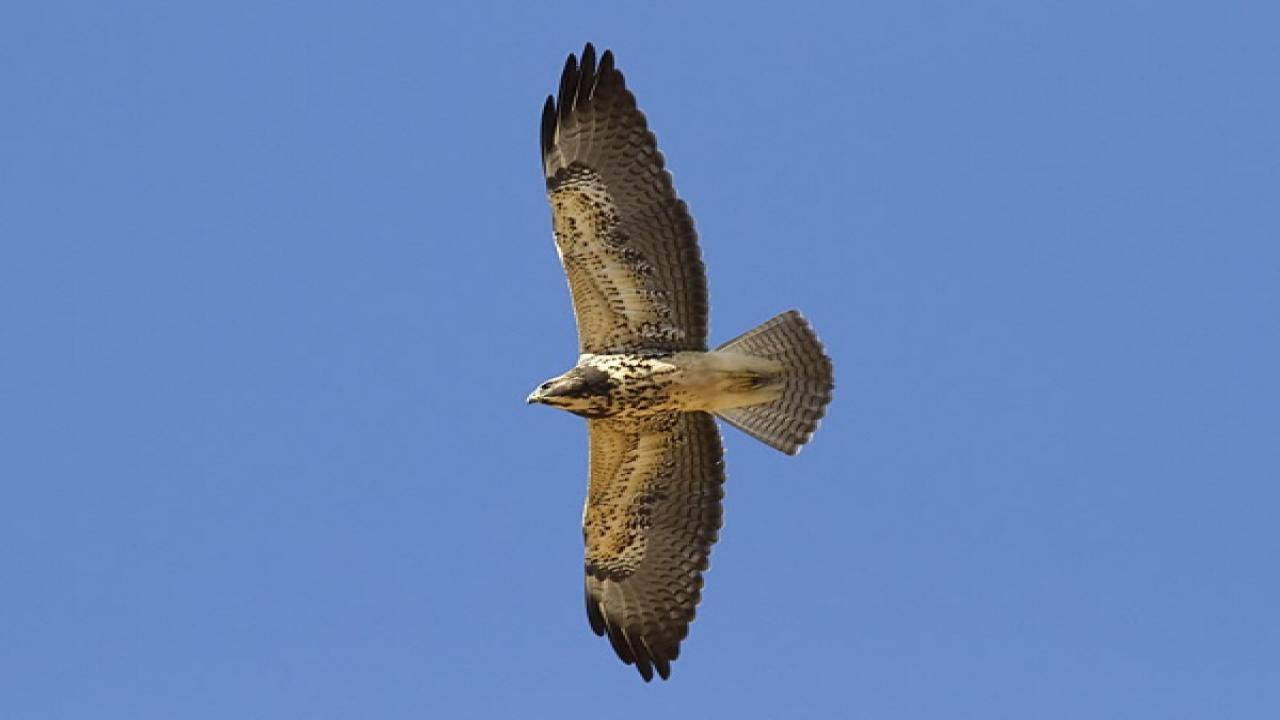Bird: (510, 36, 850, 691)
